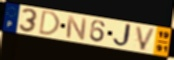3: (18, 8, 39, 34)
6: (89, 20, 106, 44)
D: (37, 10, 61, 37)
J: (112, 23, 135, 49)
N: (65, 15, 88, 42)
V: (135, 25, 157, 52)
